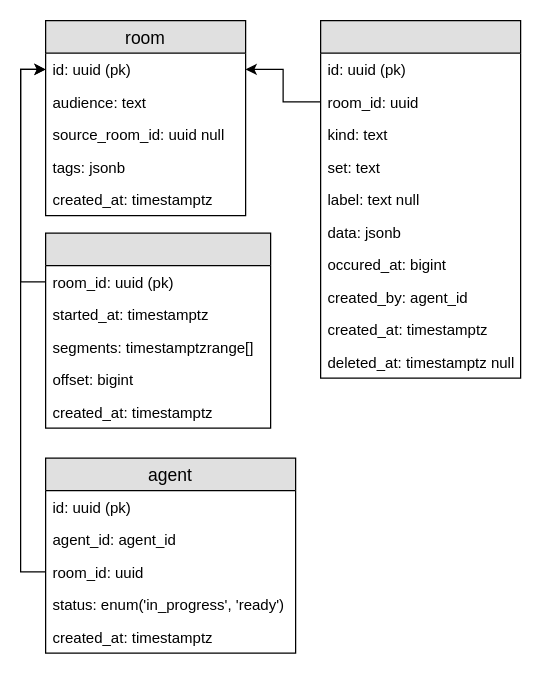
The diagram is 541 pixels wide and 674 high, and some of its shapes have lost their labels. Here are the shapes that lost their labels. From the top down, the box of each, then its label:
(319, 19, 521, 378): event
(44, 232, 271, 428): adjustment
